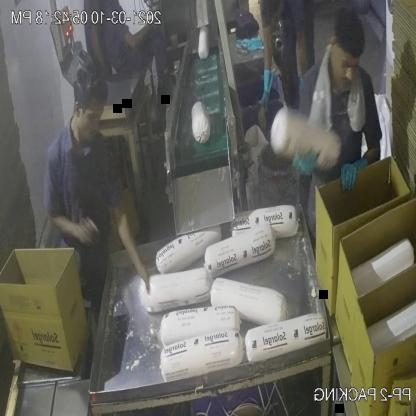no_glove: (108, 197, 160, 297), (42, 209, 102, 260), (119, 14, 162, 60), (86, 20, 109, 77)
